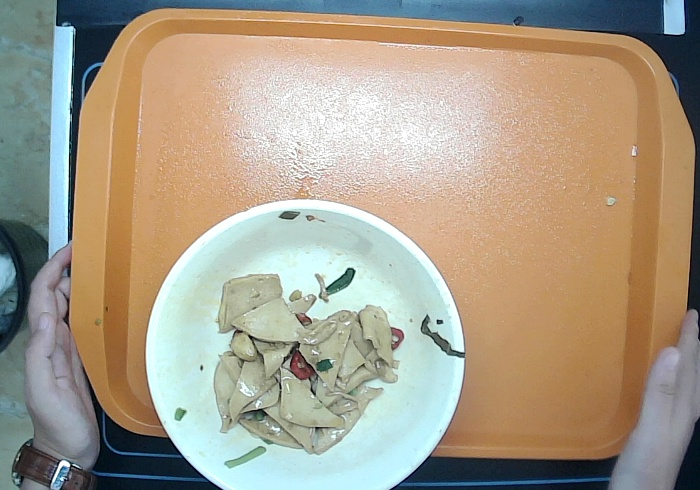ZNLD-Da_Tang_Wan: (142, 196, 471, 490)
